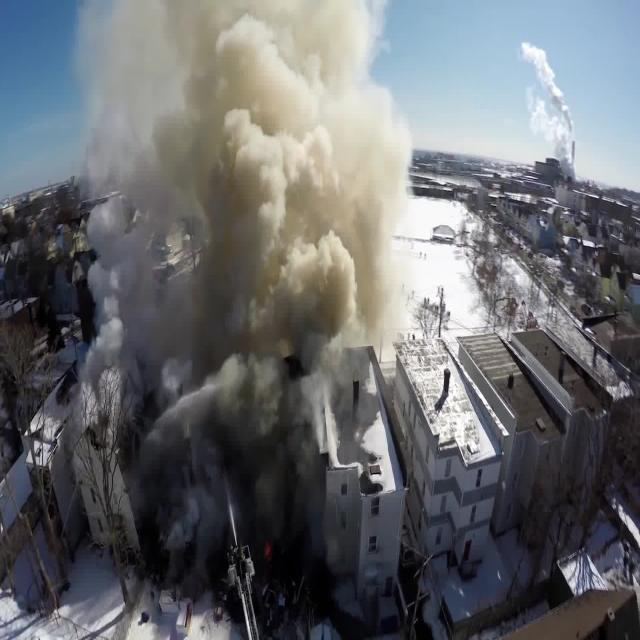smoke: (116, 7, 364, 343)
